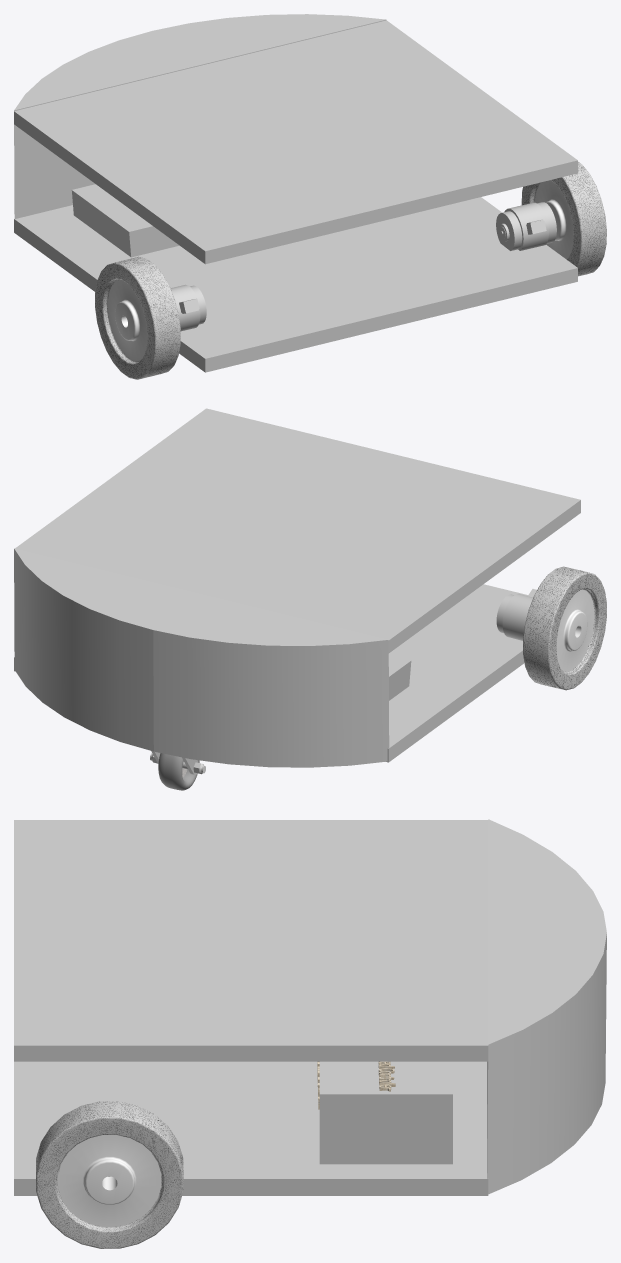
Rendered from robotmodel.dae.
3 renders of one model, top to bottom at view 1: azimuth 30°, elevation 25°; view 2: azimuth 150°, elevation 25°; view 3: azimuth 270°, elevation 25°, orthographic. The views are drawn at different scales.
Parts seen in each view (by area): view 1: SketchUp, SketchUp_001, instance_2_001, instance_1_001, SketchUp_002, instance_2_002, instance_1_002, instance_16, instance_0, instance_16_005; view 2: SketchUp, SketchUp_001, instance_2_001, instance_2_002, instance_0, instance_3_001, SketchUp_002; view 3: SketchUp, SketchUp_001, SketchUp_003, instance_1_001, instance_1.
Part boxes in pixels (box(x1,y1,x2,y2)): SketchUp: box(14, 14, 577, 264); SketchUp_001: box(14, 197, 577, 372); instance_2_001: box(95, 256, 180, 379); instance_1_001: box(521, 161, 606, 276); SketchUp_002: box(71, 184, 179, 257); instance_2_002: box(108, 279, 147, 361); instance_1_002: box(534, 180, 573, 259); instance_16: box(504, 202, 548, 250); instance_0: box(170, 284, 200, 331); instance_16_005: box(496, 211, 522, 250); SketchUp: box(14, 408, 580, 767); SketchUp_001: box(14, 584, 527, 762); instance_2_001: box(523, 566, 606, 690); instance_2_002: box(556, 589, 594, 671); instance_0: box(502, 594, 532, 640); instance_3_001: box(158, 753, 199, 790); SketchUp_002: box(388, 655, 411, 700); SketchUp: box(14, 819, 606, 1194); SketchUp_001: box(14, 1061, 488, 1195); SketchUp_003: box(319, 1061, 452, 1164); instance_1_001: box(36, 1101, 183, 1248); instance_1: box(58, 1135, 161, 1226).
Size of the model in its own units: 8.58 by 7.87 by 3.2.
8 materials, 1 textured.
